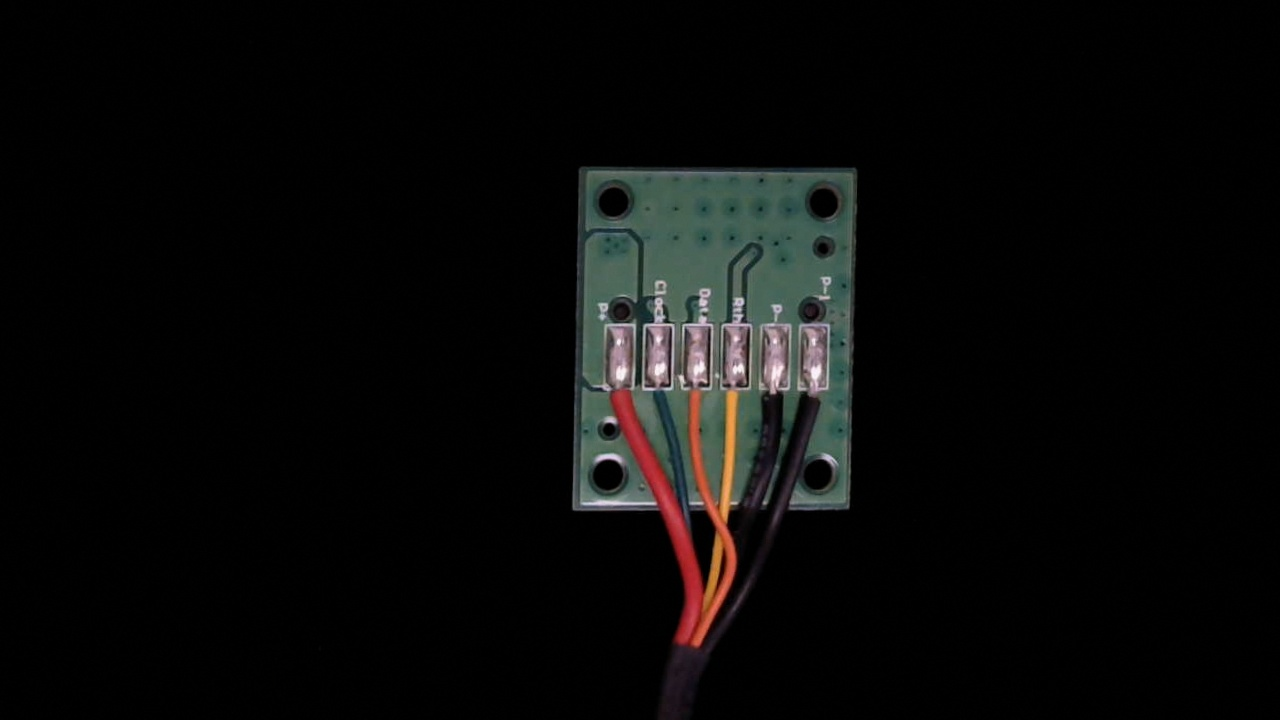Black: (756, 370, 791, 446)
Black1: (802, 371, 833, 443)
Green: (644, 371, 673, 434)
Orange: (681, 371, 715, 446)
Red: (604, 371, 637, 441)
Yellow: (715, 371, 751, 448)
